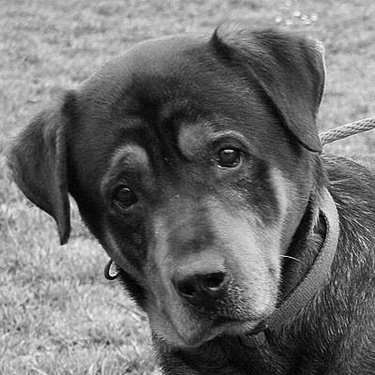dog: (5, 18, 370, 371)
